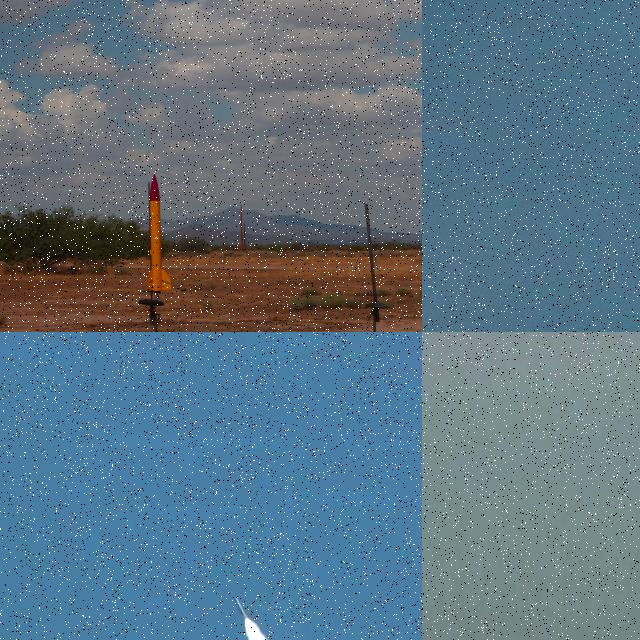Rocket: (146, 173, 172, 293), (235, 596, 248, 620)
